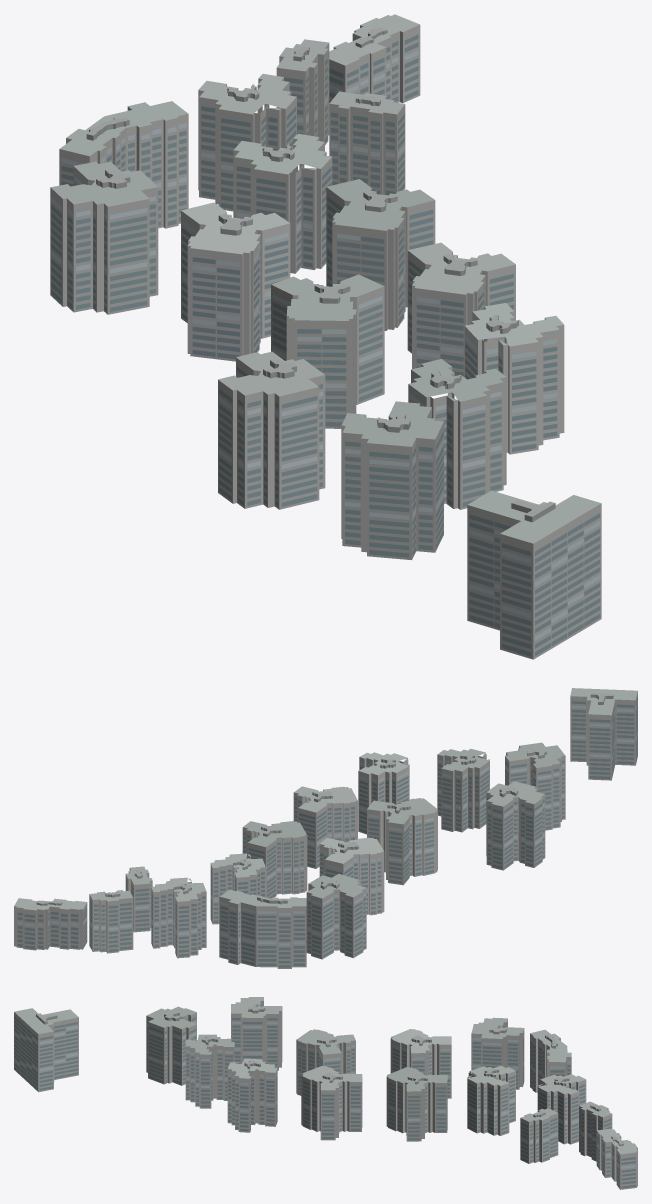
The model's file is apt-a13002002.glb.
3 renders of one model, top to bottom at view 1: azimuth 30°, elevation 25°; view 2: azimuth 150°, elevation 25°; view 3: azimuth 270°, elevation 25°, orthographic. The views are drawn at different scales.
Parts seen in each view (by area): view 1: apt-a13002002; view 2: apt-a13002002; view 3: apt-a13002002.
Boxes of the visible parts, bbox=[...] form: apt-a13002002: bbox=[50, 14, 601, 659]; apt-a13002002: bbox=[14, 688, 637, 968]; apt-a13002002: bbox=[14, 997, 637, 1189].
Bounding box in the file's own units: 212 × 44 × 410.
